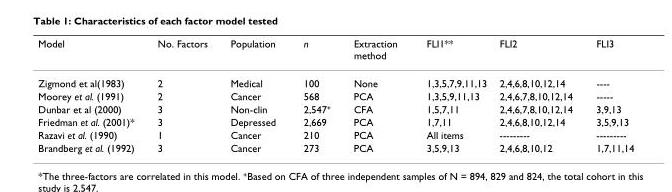table: (37, 37, 633, 153)
table column: (37, 37, 145, 153), (492, 37, 583, 153), (411, 37, 492, 153), (145, 37, 218, 153), (218, 37, 288, 153), (341, 37, 411, 153), (288, 37, 341, 153), (583, 37, 633, 153)
table column header: (37, 37, 633, 68)
table row: (37, 37, 633, 68), (37, 68, 633, 89), (37, 89, 633, 102), (37, 102, 633, 115), (37, 115, 633, 128), (37, 128, 633, 141), (37, 141, 633, 153)
